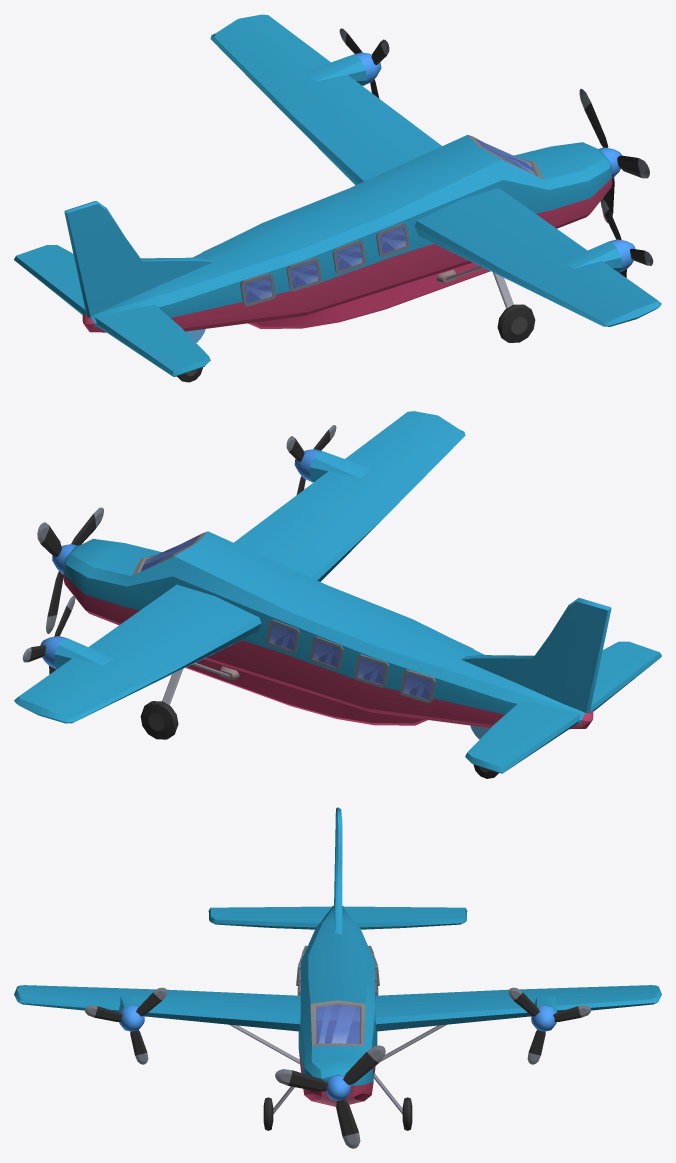
3 renders of one model, top to bottom at view 1: azimuth 30°, elevation 25°; view 2: azimuth 150°, elevation 25°; view 3: azimuth 270°, elevation 25°, orthographic. The views are drawn at different scales.
Parts seen in each view (by area): view 1: Plane_1_C, Propeler_F, Propeler_L, Propeler_R; view 2: Plane_1_C, Propeler_F, Propeler_R, Propeler_L; view 3: Plane_1_C, Propeler_F, Propeler_L, Propeler_R.
Part boxes in pixels (<box>): Plane_1_C: <box>14,14,661,382</box>; Propeler_F: <box>579,89,649,222</box>; Propeler_L: <box>339,28,389,98</box>; Propeler_R: <box>600,199,653,277</box>; Plane_1_C: <box>14,411,661,778</box>; Propeler_F: <box>37,507,103,633</box>; Propeler_R: <box>286,425,336,494</box>; Propeler_L: <box>22,595,75,674</box>; Plane_1_C: <box>14,807,661,1130</box>; Propeler_F: <box>275,1045,385,1148</box>; Propeler_L: <box>508,987,591,1064</box>; Propeler_R: <box>84,987,167,1064</box>.
Size of the model in its own units: 18.45 by 6.38 by 22.98.
